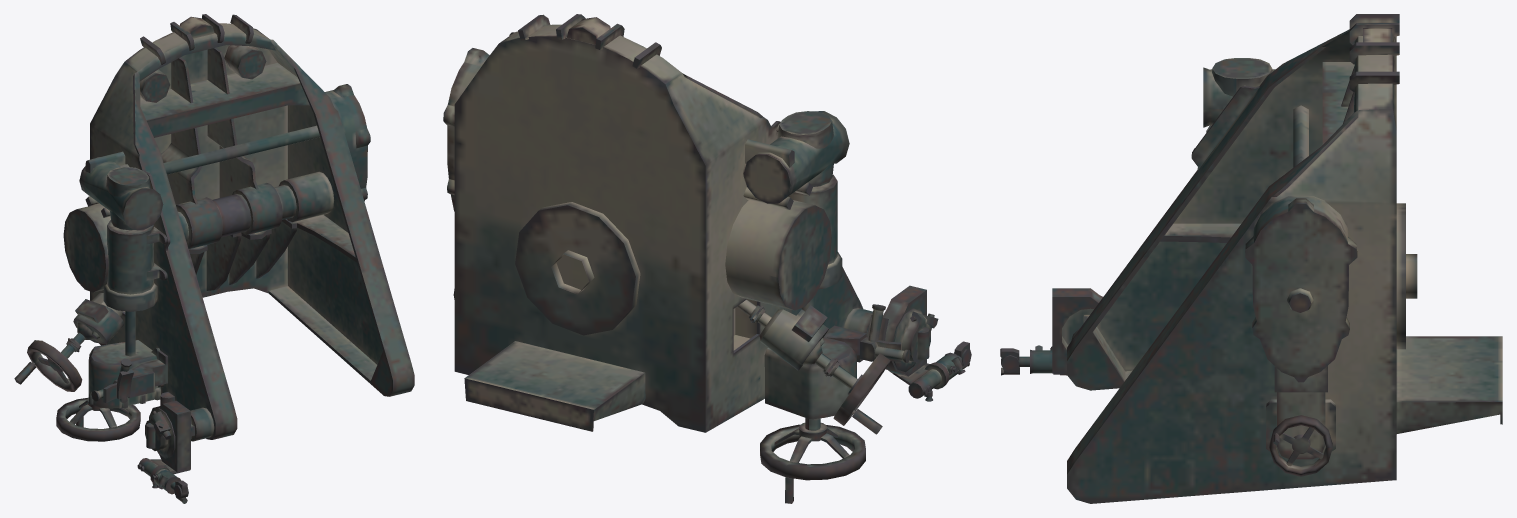
File: Turret_01.glb
3 views of the same model, side by side, from view 1: azimuth 30°, elevation 25°; view 2: azimuth 150°, elevation 25°; view 3: azimuth 270°, elevation 25° (orthographic). The views are drawn at different scales.
Parts seen in each view (by area): view 1: set_0_group_0; view 2: set_0_group_0; view 3: set_0_group_0.
Boxes of the visible parts, <box> form: set_0_group_0: <box>14,14,414,503</box>; set_0_group_0: <box>443,14,971,503</box>; set_0_group_0: <box>1000,14,1502,503</box>.
Size of the model in its own units: 1.42 by 1.44 by 1.38.
1 material, 1 textured.
